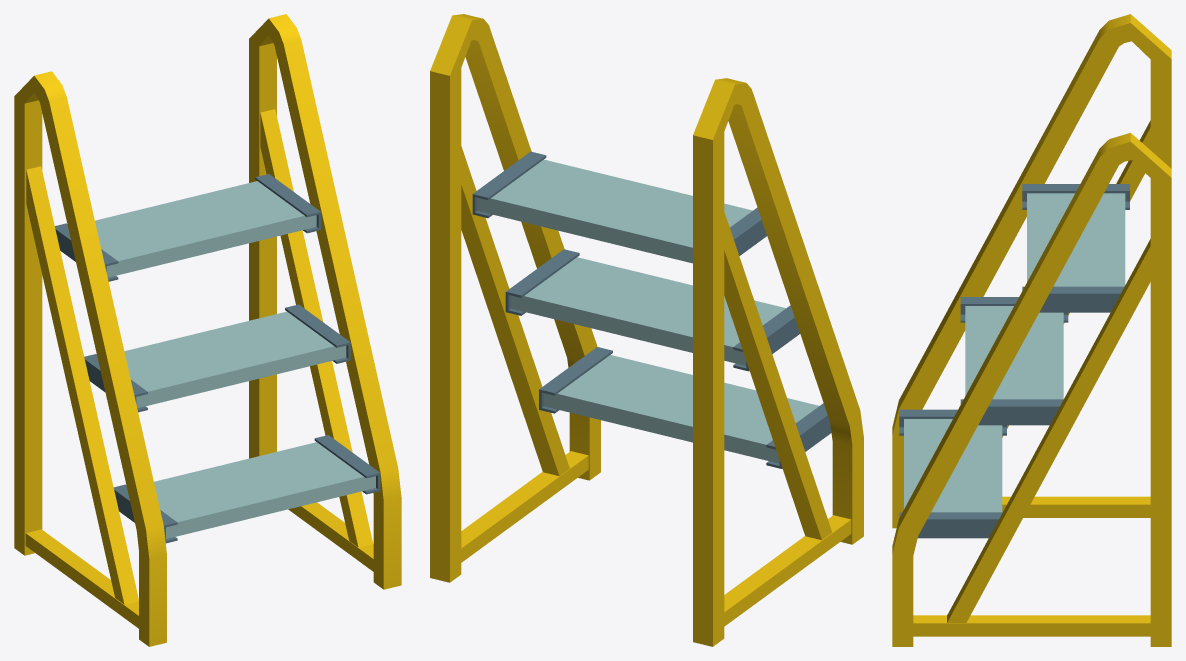
The model's file is Prop_Ladder_Small.fbx.
The picture shows the model from 3 angles, left to right: view 1: azimuth 30°, elevation 25°; view 2: azimuth 150°, elevation 25°; view 3: azimuth 270°, elevation 25°; orthographic projection. The views are drawn at different scales.
Visible parts, largest first — view 1: Prop_Ladder_Small; view 2: Prop_Ladder_Small; view 3: Prop_Ladder_Small.
Part boxes in pixels (left/top/right/bottom): Prop_Ladder_Small: left=14, top=14, right=401, bottom=646; Prop_Ladder_Small: left=430, top=14, right=863, bottom=646; Prop_Ladder_Small: left=892, top=14, right=1171, bottom=646.
Bounding box in the file's own units: 66.52 × 71.88 × 133.
